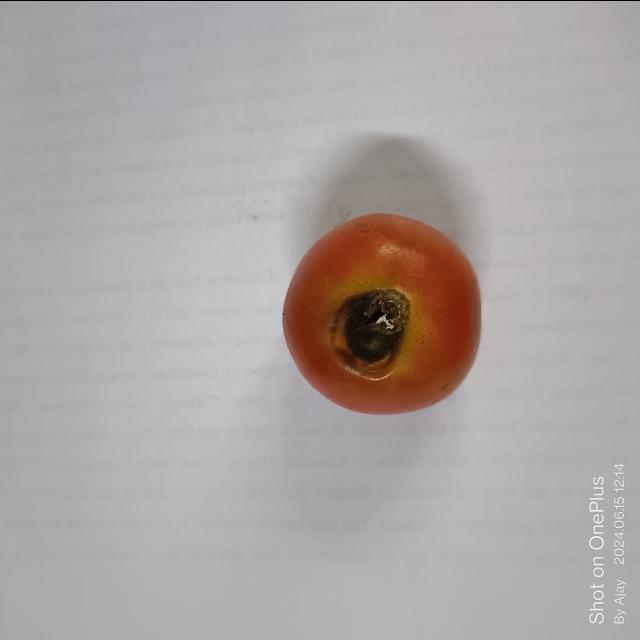Anthrocnose: (331, 286, 408, 380)
